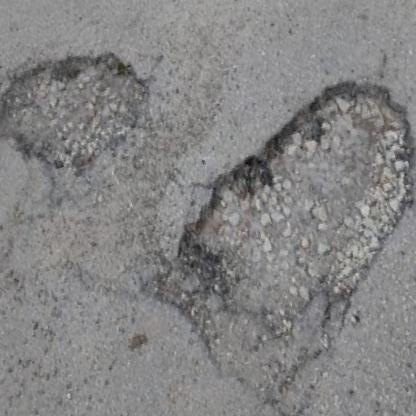pothole: (112, 61, 416, 416), (0, 32, 204, 325)
